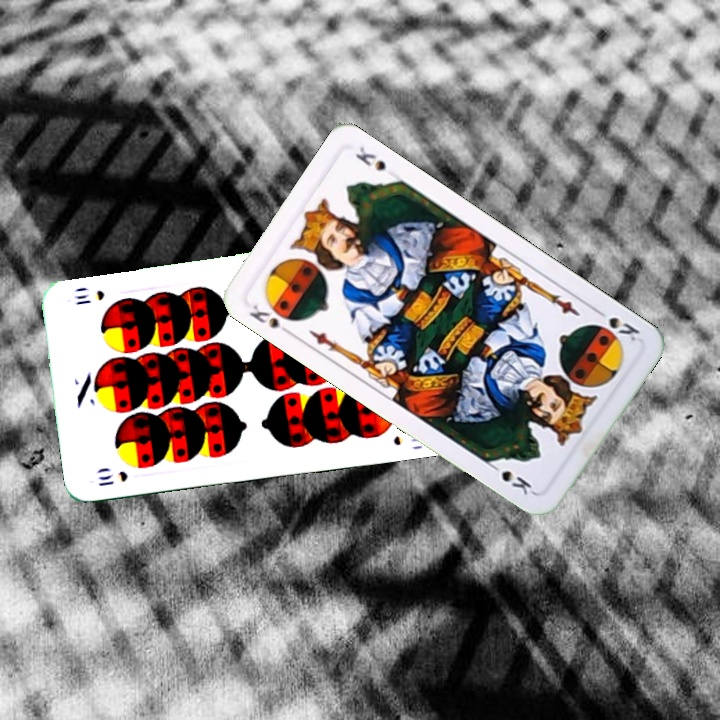S10: (94, 467, 131, 489)
SK: (590, 304, 642, 344), (245, 300, 296, 336)
